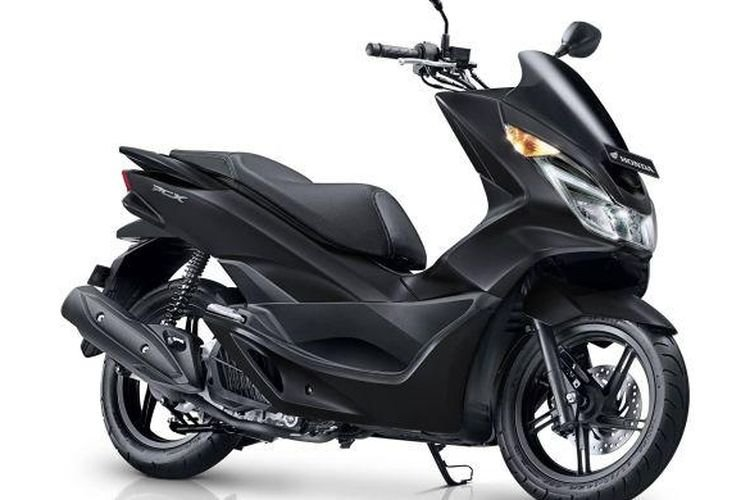motor: (88, 59, 691, 500)
